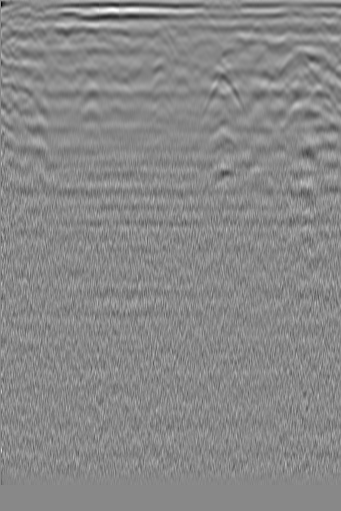가스: (199, 161, 237, 192)
상수: (15, 30, 42, 60)
오수: (274, 48, 320, 82)
우수: (130, 22, 174, 67)
